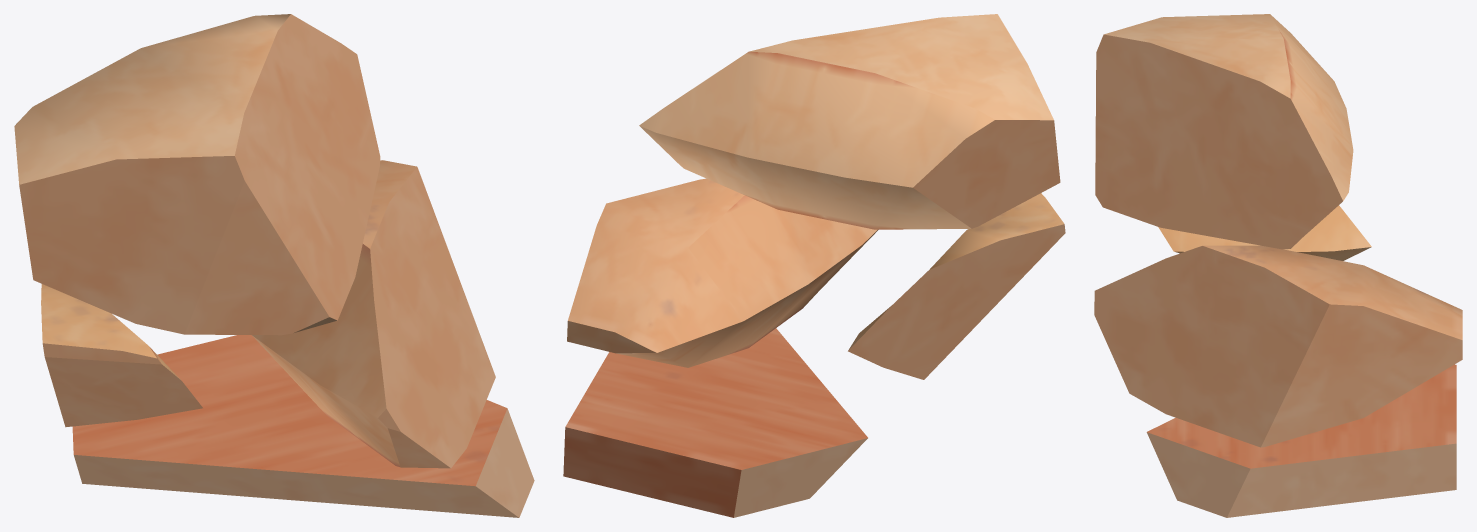
File: cart_s02.fbx
The picture shows the model from 3 angles, left to right: view 1: azimuth 30°, elevation 25°; view 2: azimuth 150°, elevation 25°; view 3: azimuth 270°, elevation 25°; orthographic projection. The views are drawn at different scales.
Parts seen in each view (by area): view 1: cart_s02; view 2: cart_s02; view 3: cart_s02.
Part boxes in pixels (left/top/right/bottom): cart_s02: left=14, top=14, right=534, bottom=517; cart_s02: left=563, top=14, right=1065, bottom=517; cart_s02: left=1094, top=14, right=1462, bottom=517.
Bounding box in the file's own units: 2.19 × 1.94 × 1.83.
